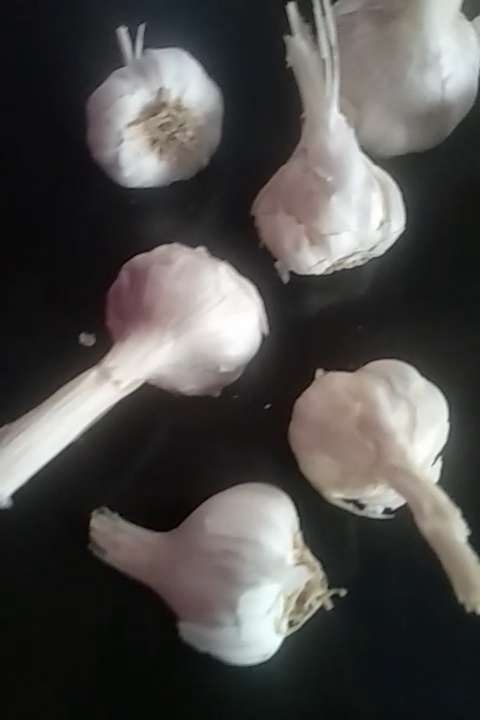garlic: (6, 248, 266, 491), (75, 462, 333, 667), (292, 355, 480, 617), (251, 71, 408, 290), (308, 1, 469, 171), (94, 36, 232, 203)
